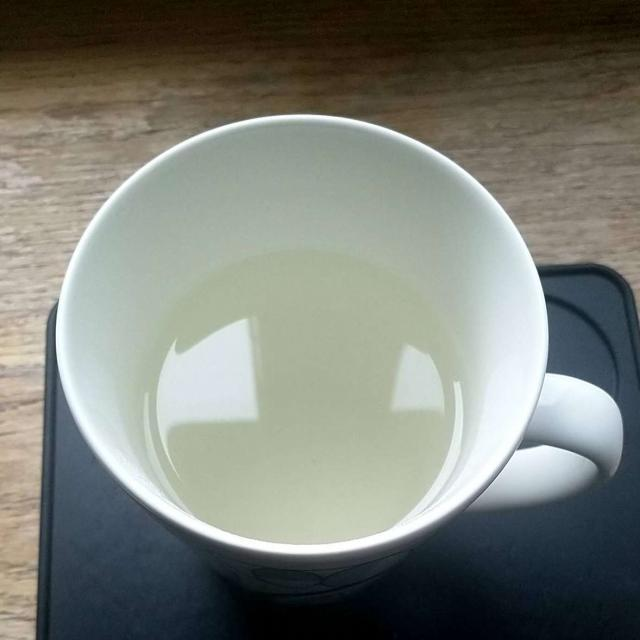drink: (139, 242, 458, 541)
